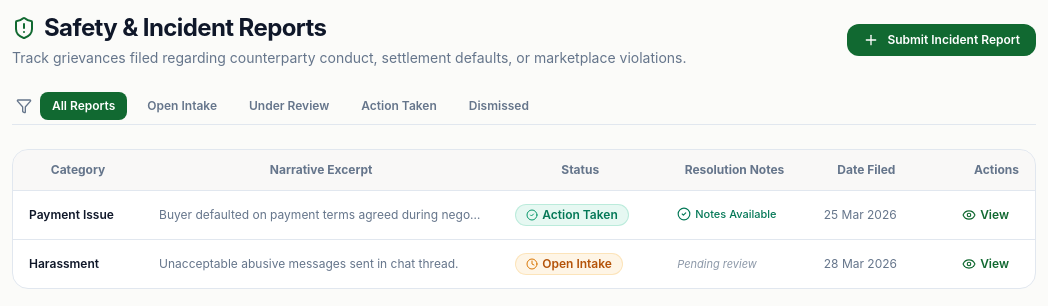
Test case: UserReportsPage › filters reports by status tab
This screenshot has width=1048, height=306.
Expected: the text "Payment Issue" is shown, [13,190,143,240]
Note: Click "Open Intake" tab
Click the button "Open Intake".
click(182, 106)  # box [135,92,229,120]
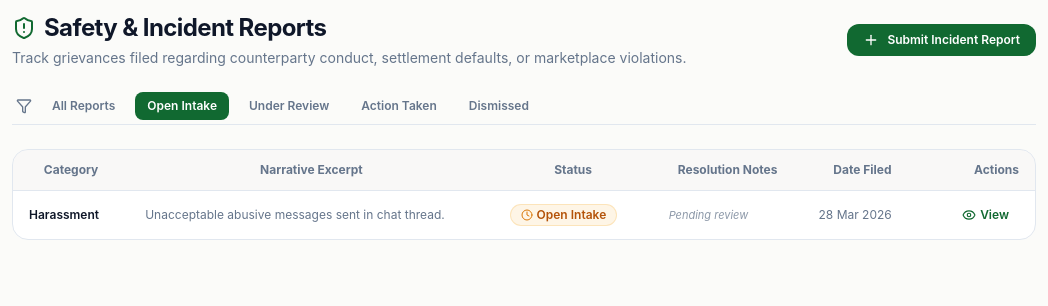
Expected: the text "Harassment" is shown, [13,190,129,239]
Now the text "Payment Issue" is gone
